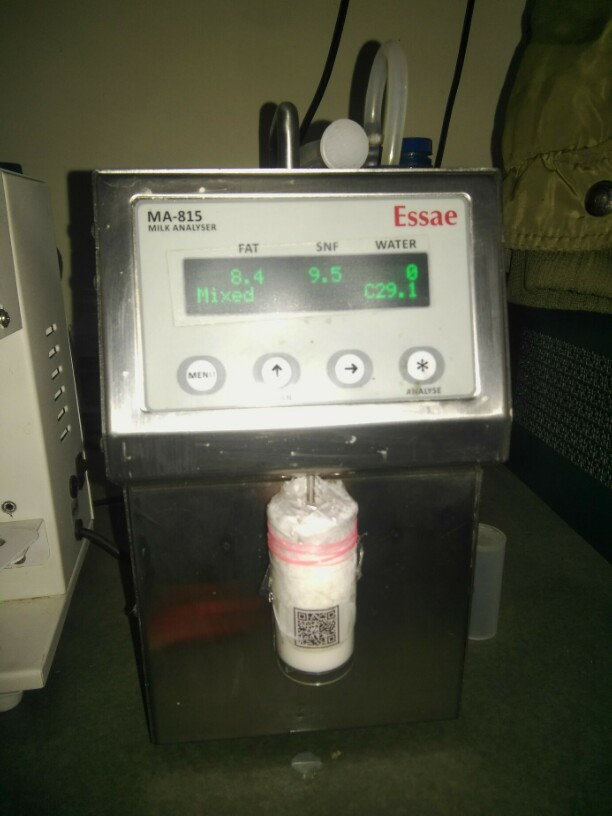lcd: (178, 253, 433, 318)
qr: (288, 604, 346, 651)
